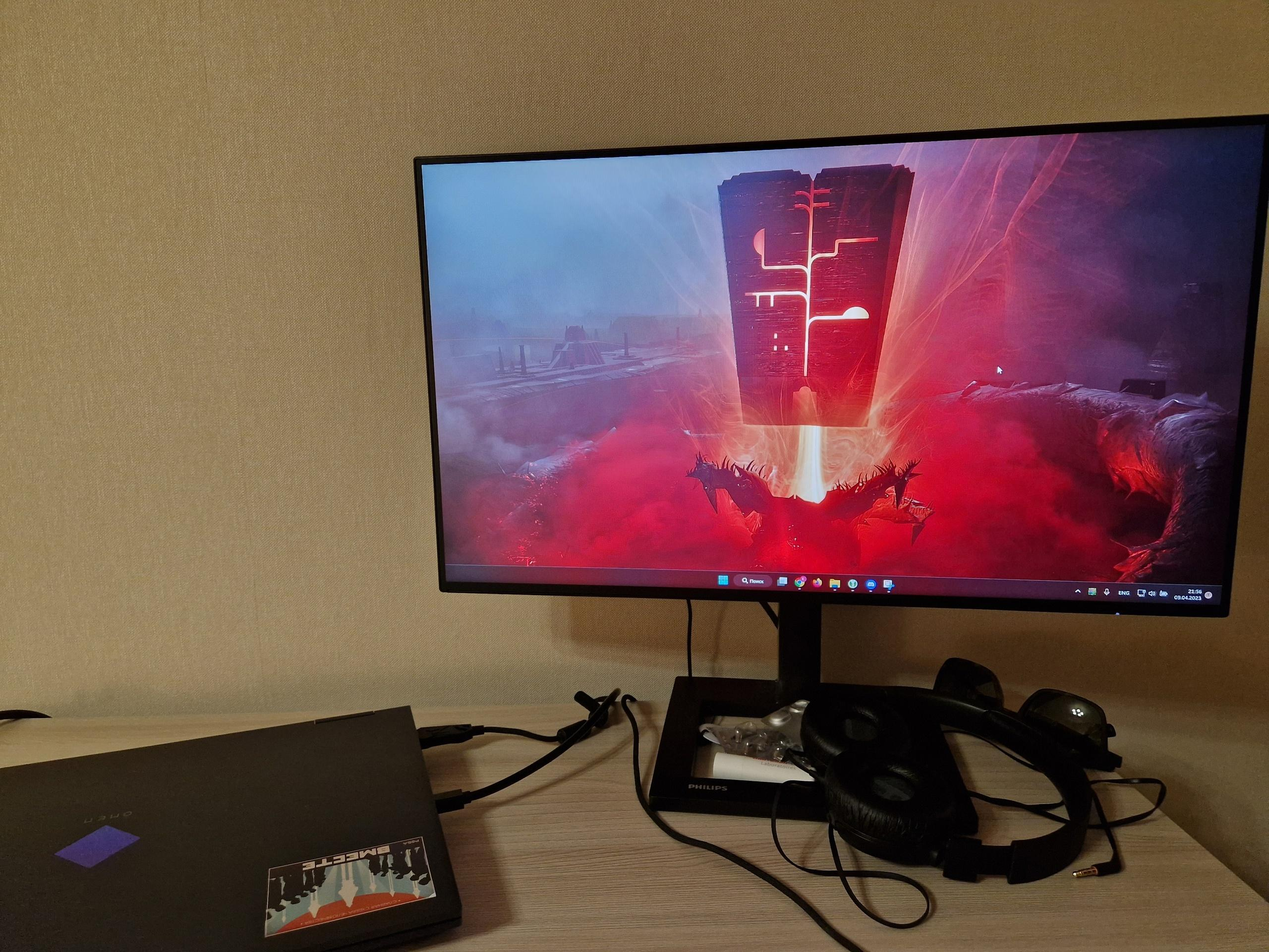monitor: (405, 109, 1269, 626)
